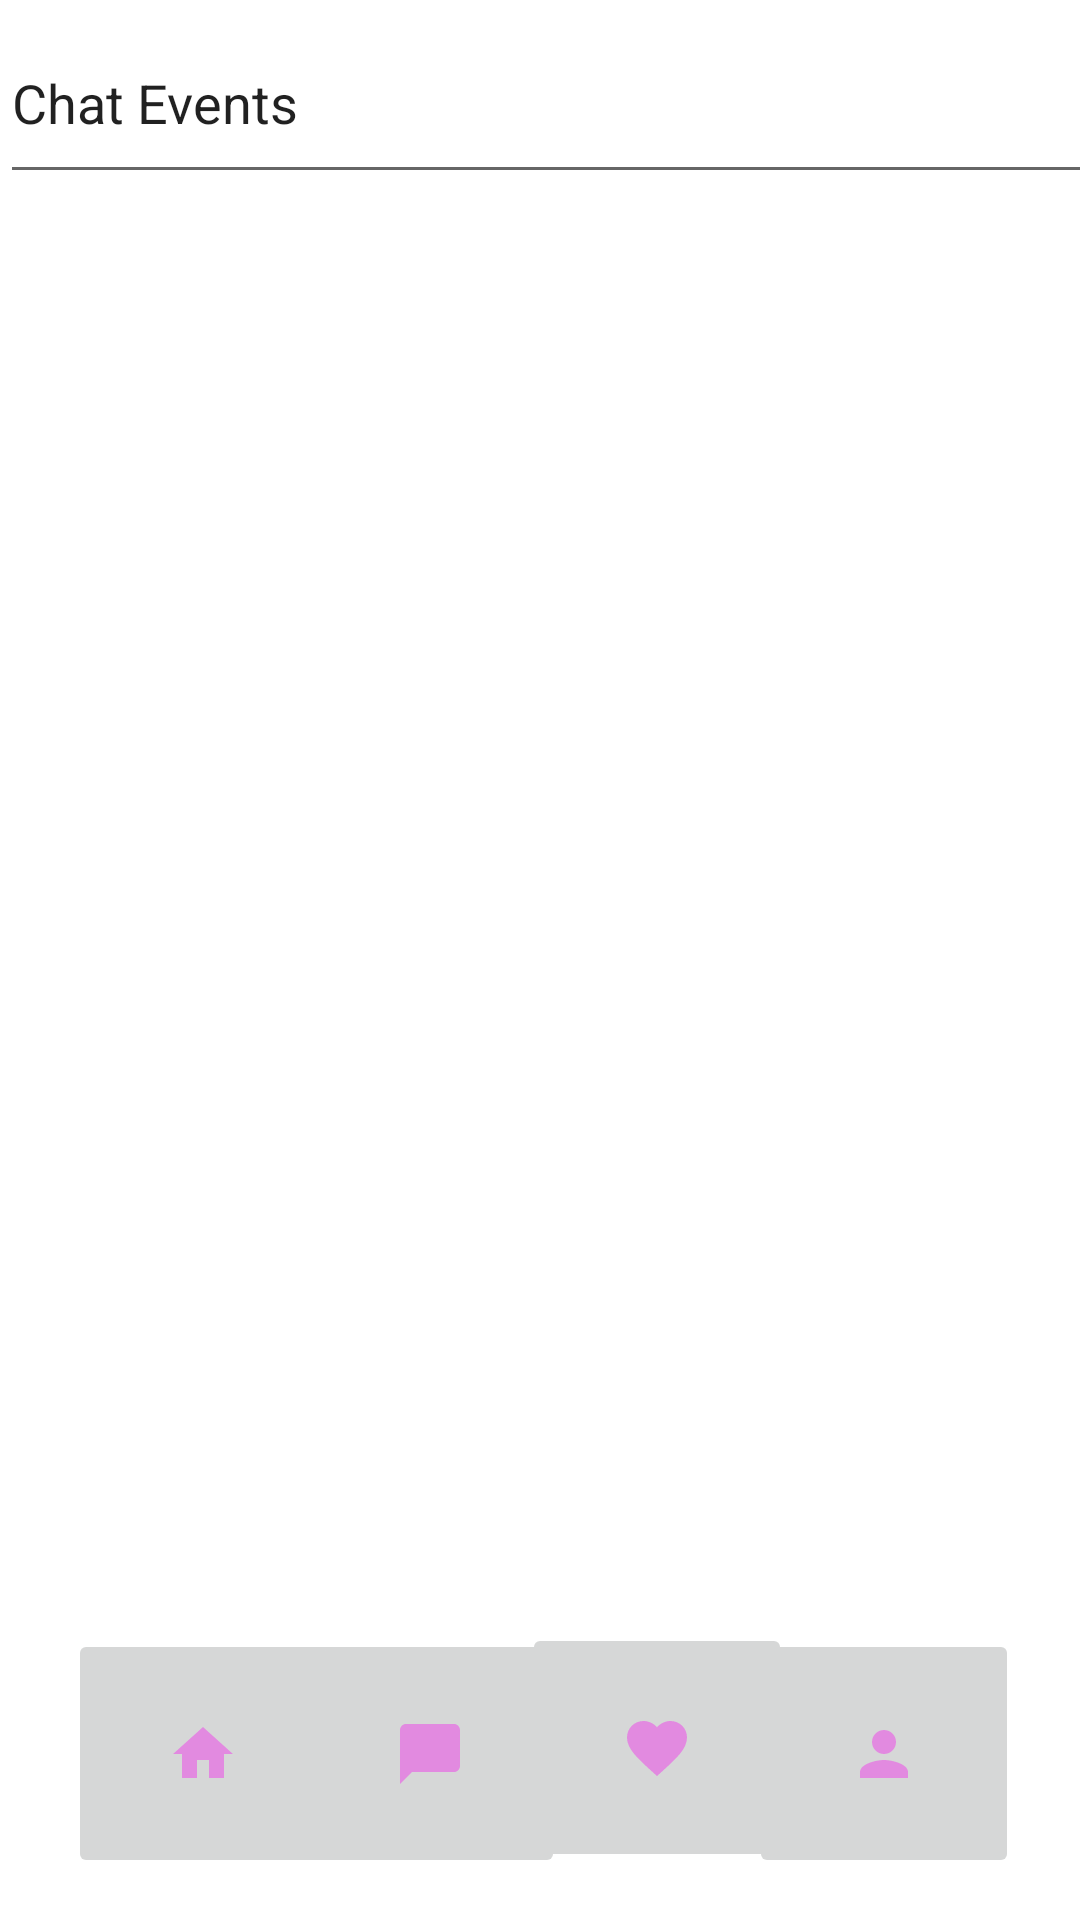

Icon click points for this 1080 × 1920 phone screenshot, format (x,y):
favourites: (657,1747)
home: (209,1753)
person: (878,1750)
